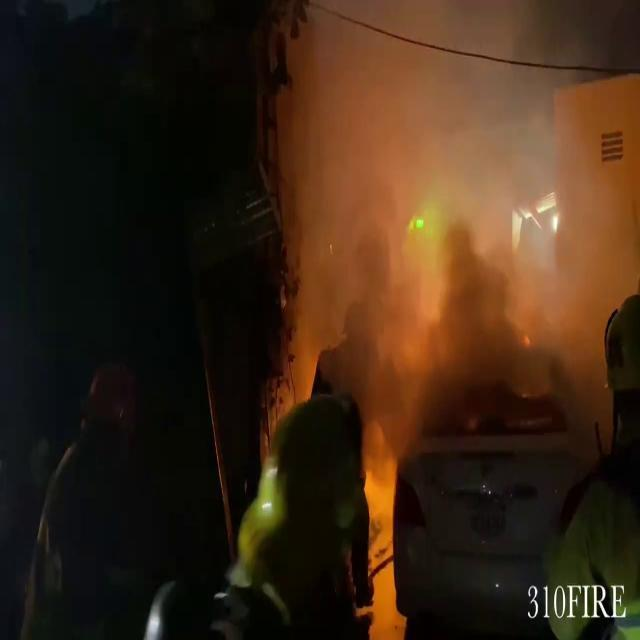Smoke: (263, 0, 640, 427)
